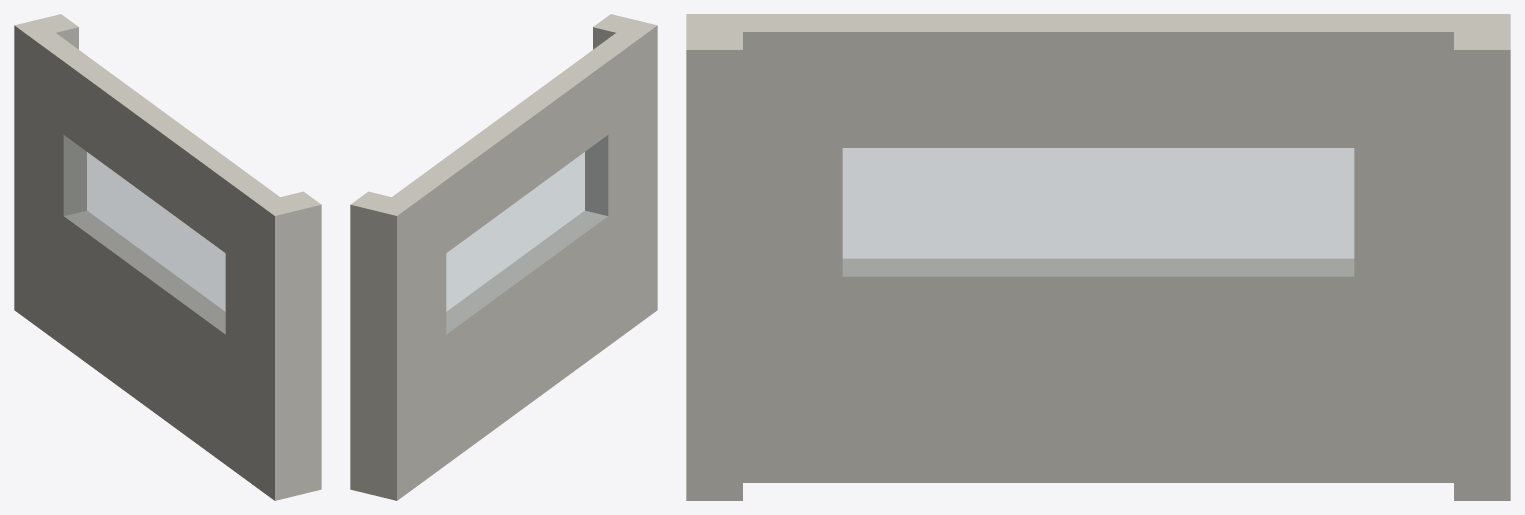
Rendered from hoist_cab_back.glb.
3 renders of one model, left to right at view 1: azimuth 30°, elevation 25°; view 2: azimuth 150°, elevation 25°; view 3: azimuth 270°, elevation 25°, orthographic. The views are drawn at different scales.
Visible parts, largest first — view 1: body:compound; view 2: body:compound; view 3: body:compound.
Part boxes in pixels (x1,y1,x2,y2): body:compound: (14, 14, 321, 500); body:compound: (350, 14, 657, 500); body:compound: (686, 14, 1510, 500).
Size of the model in its own units: 0.1875 by 1.09 by 1.81.
